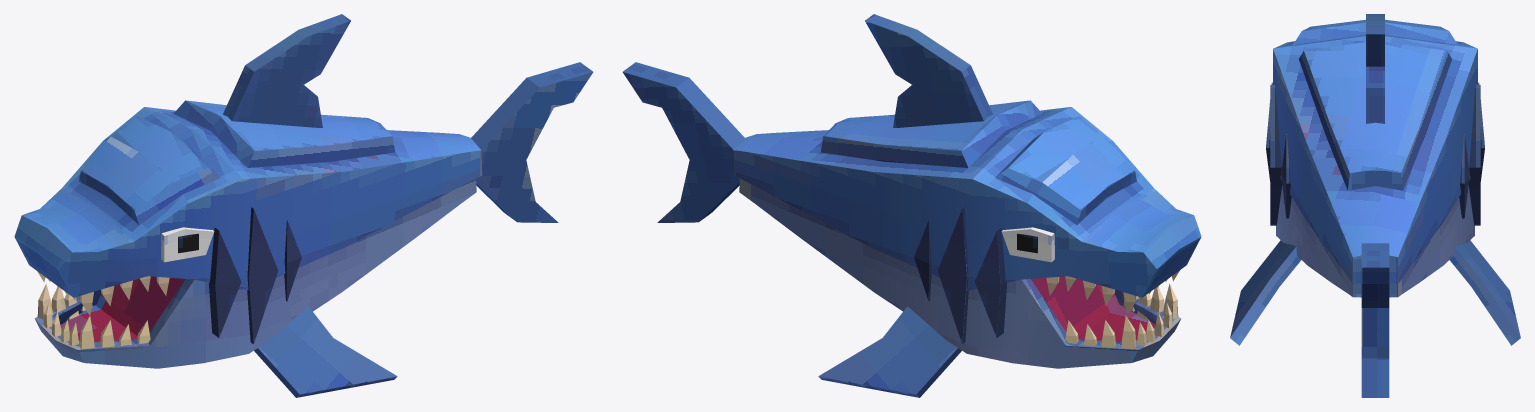
Rendered from animal_shark.obj.
3 renders of one model, left to right at view 1: azimuth 30°, elevation 25°; view 2: azimuth 150°, elevation 25°; view 3: azimuth 270°, elevation 25°, orthographic. The views are drawn at different scales.
Parts seen in each view (by area): view 1: animal_shark; view 2: animal_shark; view 3: animal_shark.
Boxes of the visible parts, left/top/right/bottom form: animal_shark: left=14, top=14, right=593, bottom=397; animal_shark: left=622, top=14, right=1201, bottom=397; animal_shark: left=1230, top=14, right=1520, bottom=397.
Size of the model in its own units: 8.99 by 4.84 by 3.98.
Materials: 1 (1 with a texture image).
